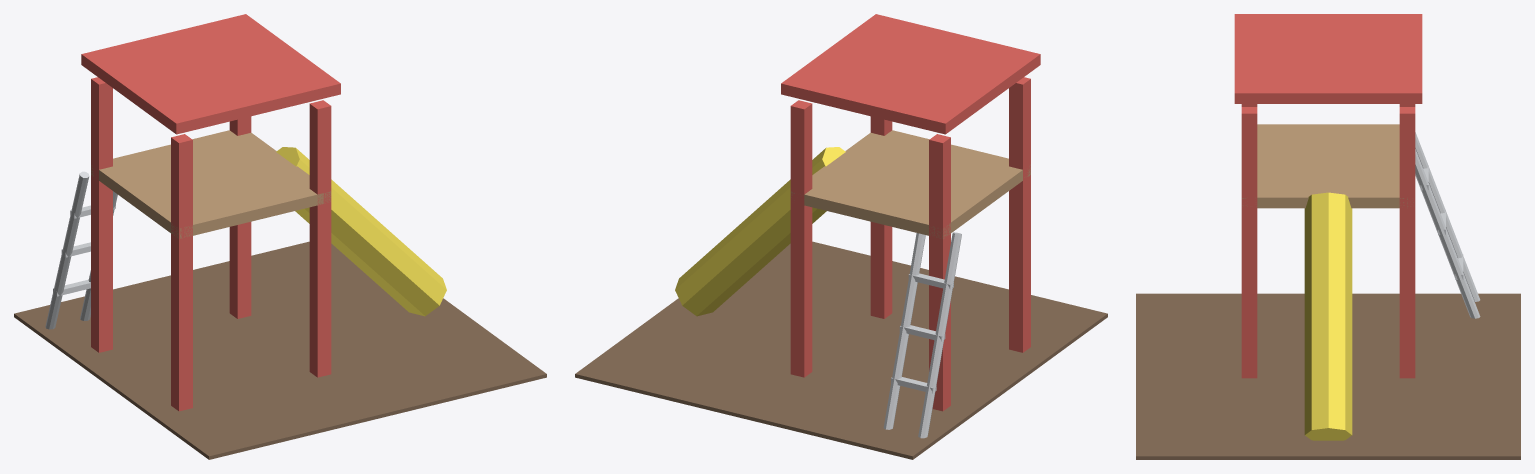
File: playground.glb
The picture shows the model from 3 angles, left to right: view 1: azimuth 30°, elevation 25°; view 2: azimuth 150°, elevation 25°; view 3: azimuth 270°, elevation 25°; orthographic projection.
Visible parts, largest first — view 1: playground; view 2: playground; view 3: playground.
Part boxes in pixels (bbox=[...]): playground: bbox=[14, 14, 546, 459]; playground: bbox=[575, 14, 1107, 459]; playground: bbox=[1136, 14, 1520, 459].
Size of the model in its own units: 1.95 by 1.64 by 1.95.
